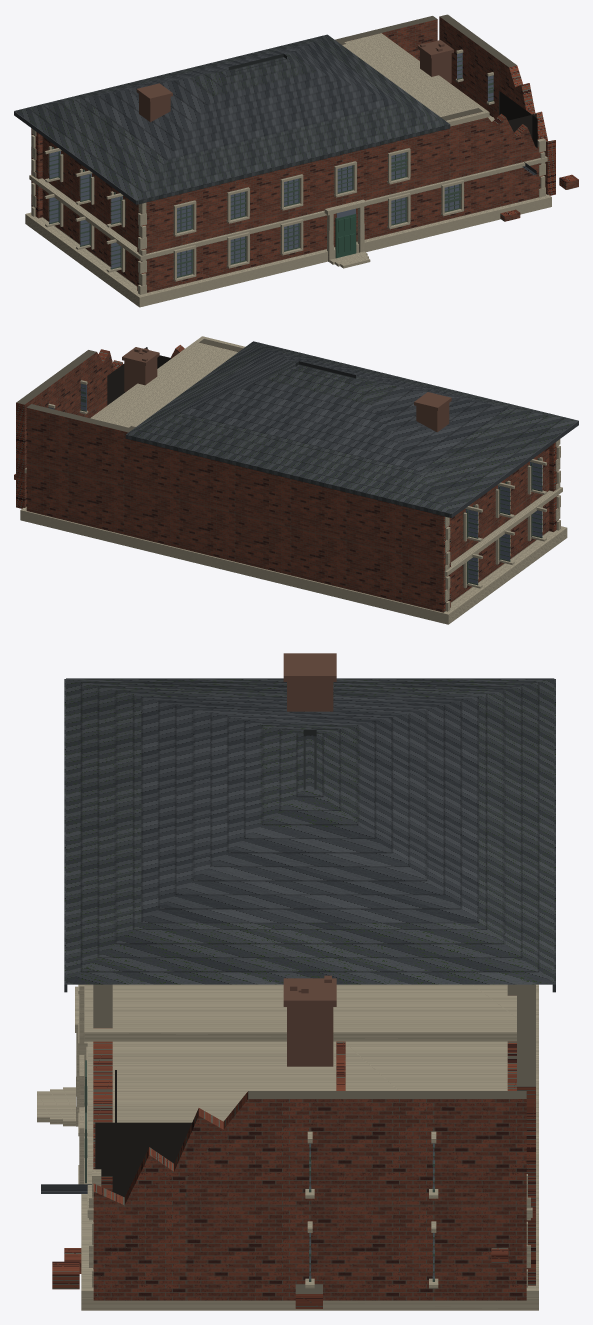
Rendered from manor.glb.
The picture shows the model from 3 angles, top to bottom: view 1: azimuth 30°, elevation 25°; view 2: azimuth 150°, elevation 25°; view 3: azimuth 270°, elevation 25°; orthographic projection. The views are drawn at different scales.
Visible parts, largest first — view 1: roof_main, wall_front, plinth, window_surrounds, wall_east, window_glass, cornice, wall_west, window_joinery, string_course, roof_detail, wall_back (+8 smaller); view 2: wall_back, roof_main, plinth, wall_east, wall_west, cornice, roof_detail, window_surrounds, window_glass, string_course, chimney_11, window_joinery (+4 smaller); view 3: roof_main, wall_east, string_course, cornice, plinth, chimney_11, breach_void, wall_back, chimney_-10, wall_front, roof_detail, doorway (+2 smaller).
Boxes of the visible parts, left/top/right/bottom form: roof_main: left=15, top=35, right=449, bottom=200; wall_front: left=137, top=108, right=543, bottom=292; plinth: left=25, top=194, right=551, bottom=307; window_surrounds: left=44, top=49, right=494, bottom=281; wall_east: left=439, top=14, right=555, bottom=195; window_glass: left=49, top=53, right=493, bottom=276; cornice: left=342, top=33, right=489, bottom=126; wall_west: left=42, top=136, right=137, bottom=285; window_joinery: left=49, top=52, right=493, bottom=277; string_course: left=29, top=115, right=547, bottom=260; roof_detail: left=14, top=34, right=536, bottom=204; wall_back: left=31, top=16, right=437, bottom=206; wall_back: left=26, top=404, right=448, bottom=612; roof_main: left=126, top=341, right=577, bottom=513; plinth: left=20, top=507, right=567, bottom=624; wall_east: left=16, top=349, right=122, bottom=508; wall_west: left=451, top=447, right=549, bottom=602; cornice: left=90, top=336, right=245, bottom=427; roof_detail: left=125, top=341, right=578, bottom=517; window_surrounds: left=48, top=380, right=546, bottom=588; window_glass: left=48, top=384, right=542, bottom=583; string_course: left=24, top=468, right=562, bottom=575; chimney_11: left=122, top=347, right=159, bottom=391; window_joinery: left=49, top=383, right=542, bottom=585; roof_main: left=66, top=679, right=554, bottom=984; wall_east: left=93, top=1091, right=526, bottom=1300; string_course: left=87, top=1041, right=532, bottom=1217; cornice: left=84, top=984, right=516, bottom=1041; plinth: left=81, top=984, right=538, bottom=1310; chimney_11: left=283, top=975, right=336, bottom=1066; breach_void: left=95, top=1070, right=191, bottom=1196; wall_back: left=517, top=984, right=535, bottom=1285; chimney_-10: left=283, top=653, right=336, bottom=711; wall_front: left=93, top=984, right=112, bottom=1268; roof_detail: left=41, top=678, right=555, bottom=1193; doorway: left=37, top=986, right=86, bottom=1126.
Bounding box in the file's own units: 32.83 × 12.51 × 16.78.
Materials: 8 (3 with a texture image).
